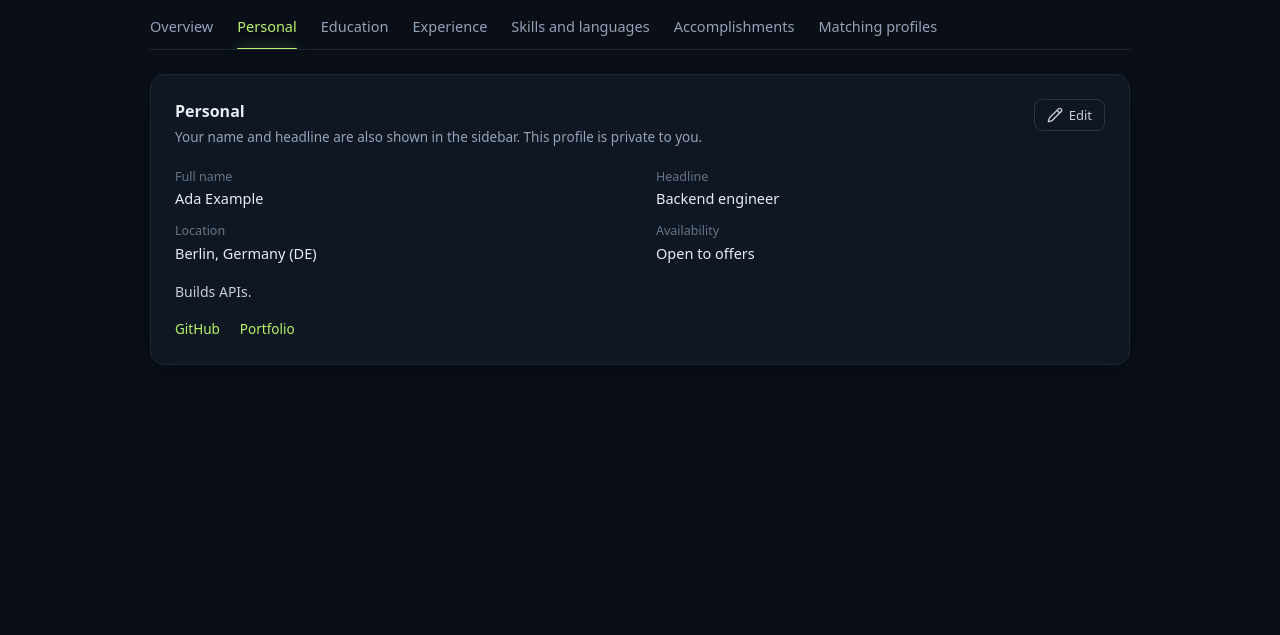
it: Personal: editing › opens an editor with the saved values and a Save and a visible secondary Cancel button
The image size is (1280, 635).
Click the button with aria-label "Edit Personal": (1069, 115) [1034,99,1105,131]
(page scrolled)
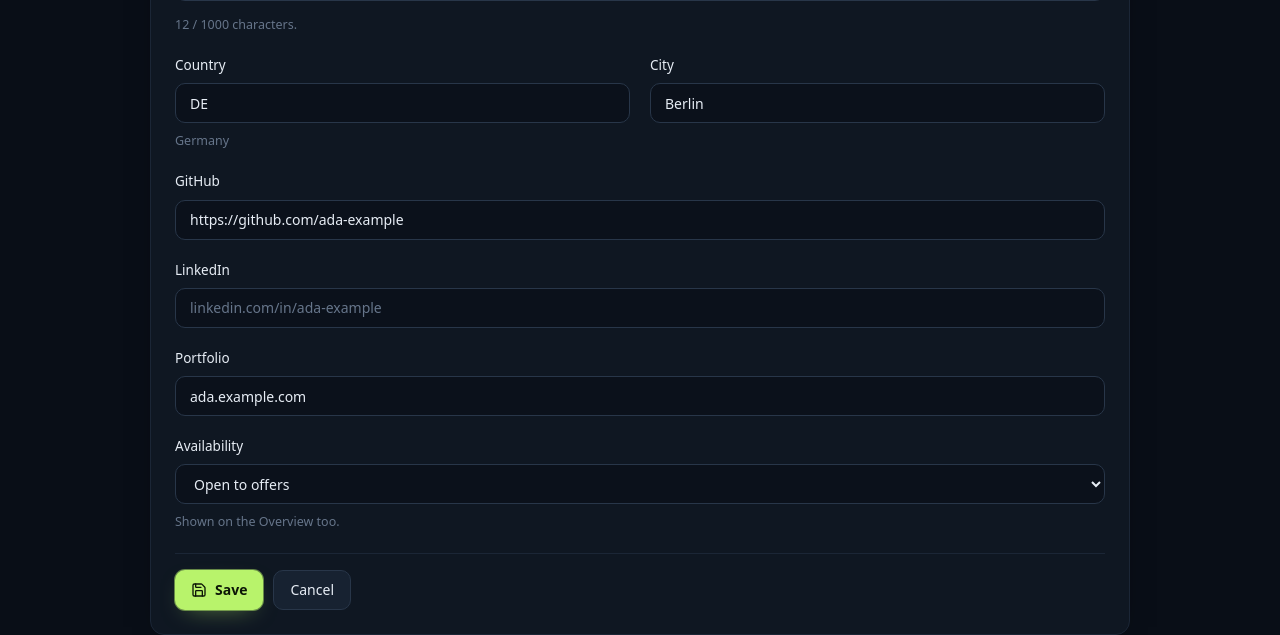
Expected: the field labelled "Country" holds "DE", [175,83,630,123]
Expected: the dropdown labelled "Availability" shows "Open to offers", [175,464,1105,504]
Expected: the button "Save" is enabled, [175,570,263,610]
